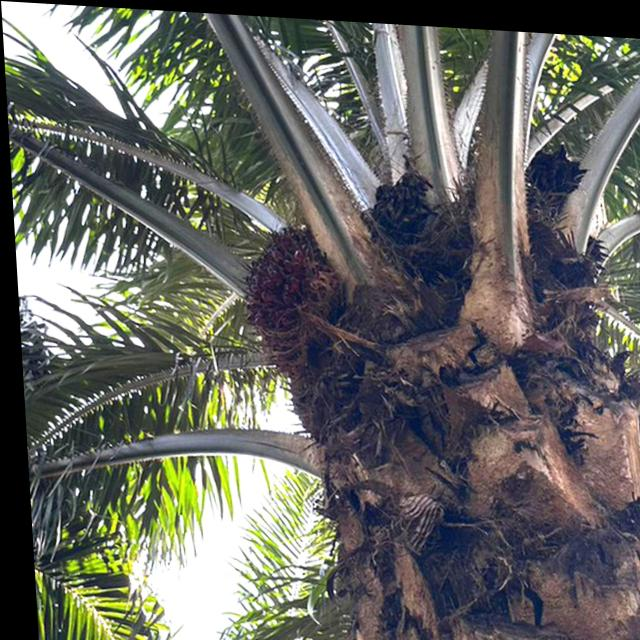ripe: (237, 211, 338, 361)
